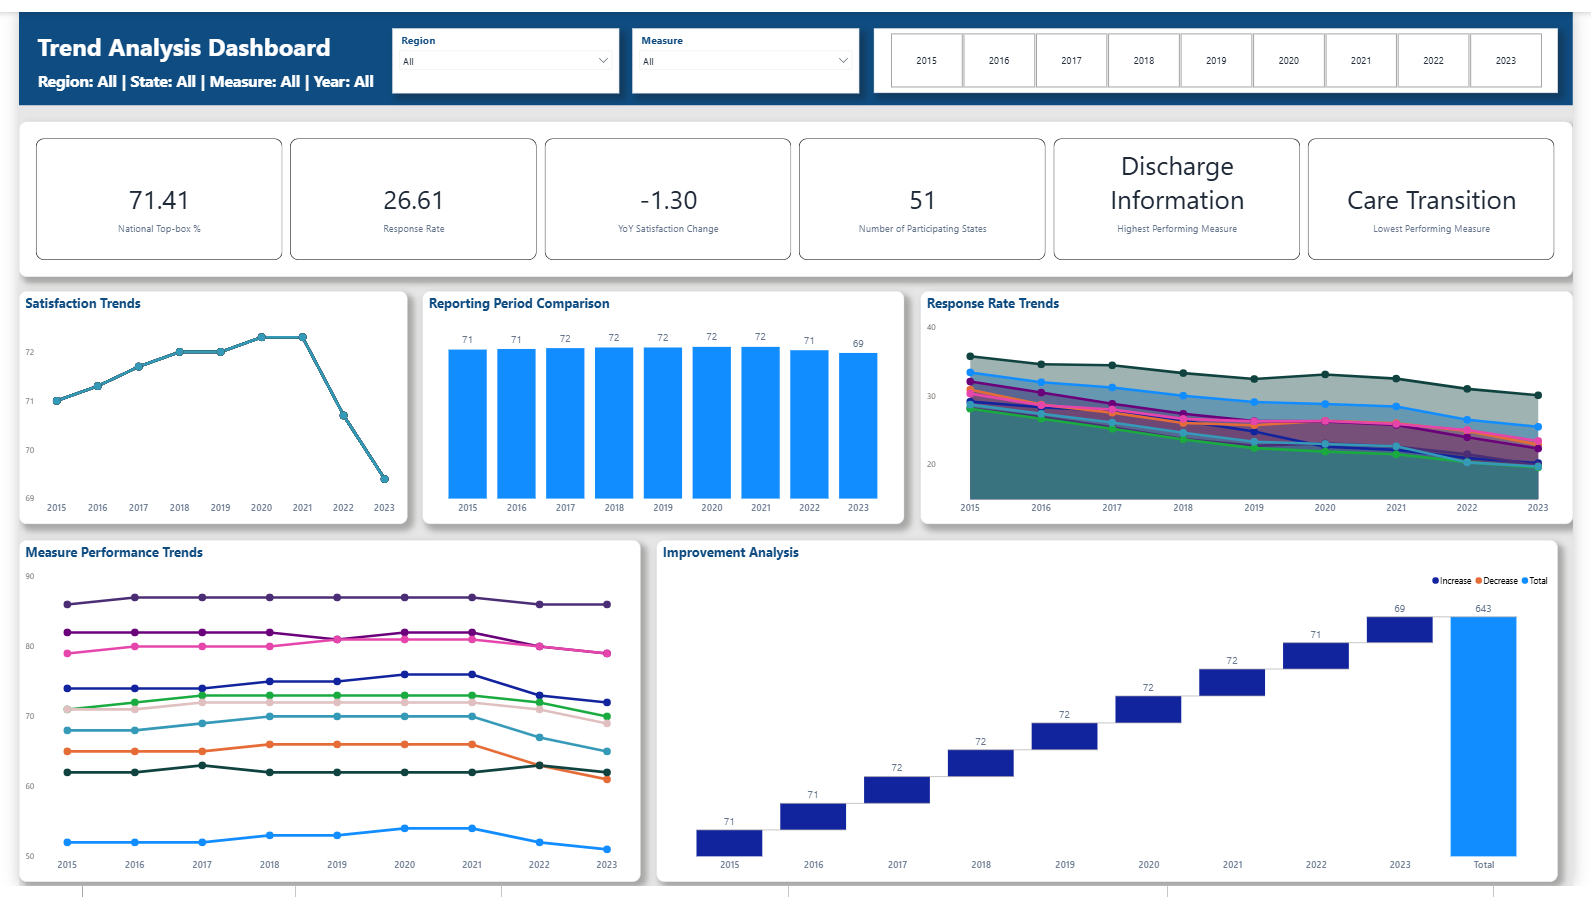

This screenshot's page, from the dashboard's own definition file:
{"tool":"powerbi","page":{"name":"Trend Analysis Dashboard","canvas":[2400,1350],"ordinal":5},"visuals":[{"type":"shape","box":[0,0,2400,144],"z":0},{"type":"textbox","box":[24,24,552,120],"z":1000},{"type":"slicer","fields":{"Values":["states.Region"]},"box":[576,25.7,350,100],"z":2000},{"type":"slicer","fields":{"Values":["measure.Measure"]},"box":[948,25.7,350,100],"z":3000},{"type":"slicer","title":"Release Period","fields":{"Values":["reports.Release Year"]},"box":[1320,26.2,1056,99],"z":4000},{"type":"cardVisual","fields":{"Data":["Key Measures.National Top-box %","Key Measures.Survey Response Rate","Key Measures.Year-over-Year Satisfaction Change","Key Measures.Number of Participating States","Key Measures.Highest Performing Measure","Key Measures.Lowest Performing Measure"]},"box":[0,168,2400,240],"z":5000},{"type":"lineChart","title":"Satisfaction Trends","fields":{"Category":["reports.Release Year"],"Y":["Key Measures.National Top-box %"],"Series":["states.Region"]},"box":[0,432,600,360],"z":6000},{"type":"clusteredColumnChart","title":"Reporting Period Comparison","fields":{"Y":["Key Measures.National Top-box %"],"Category":["reports.Release Year"]},"box":[624,432,744,360],"z":7000},{"type":"lineChart","title":"Measure Performance Trends","fields":{"Category":["reports.Release Year"],"Y":["Key Measures.National Top-box %"],"Series":["measure.Measure"]},"box":[0,816,960,528],"z":8000},{"type":"areaChart","title":"Response Rate Trends","fields":{"Category":["reports.Release Year"],"Y":["Key Measures.Survey Response Rate"],"Series":["states.Region"]},"box":[1392,432,1008,360],"z":9000},{"type":"waterfallChart","title":"Improvement Analysis","fields":{"Category":["reports.Release Year"],"Y":["Key Measures.Year-over-Year Satisfaction Change"]},"box":[984,816,1392,528],"z":10000},{"type":"card","fields":{"Values":["Key Measures.Dashboard Filter Summary"]},"box":[0,72,576,72],"z":11000}]}

Visuals, with their boxes in screenshot pixels (x1, y1, x2, y2), scaled from the page's 2400x1350 canvas onto the 1591x897 screenshot:
shape: <box>0,0,1590,96</box>
textbox: <box>16,16,382,96</box>
slicer - states.Region: <box>382,17,614,84</box>
slicer - measure.Measure: <box>628,17,860,84</box>
"Release Period" slicer: <box>875,17,1575,83</box>
cardVisual - Key Measures.National Top-box % x Key Measures.Survey Response Rate: <box>0,112,1590,271</box>
"Satisfaction Trends" lineChart: <box>0,287,398,526</box>
"Reporting Period Comparison" clusteredColumnChart: <box>414,287,907,526</box>
"Measure Performance Trends" lineChart: <box>0,542,636,893</box>
"Response Rate Trends" areaChart: <box>923,287,1590,526</box>
"Improvement Analysis" waterfallChart: <box>652,542,1575,893</box>
card - Key Measures.Dashboard Filter Summary: <box>0,48,382,96</box>
